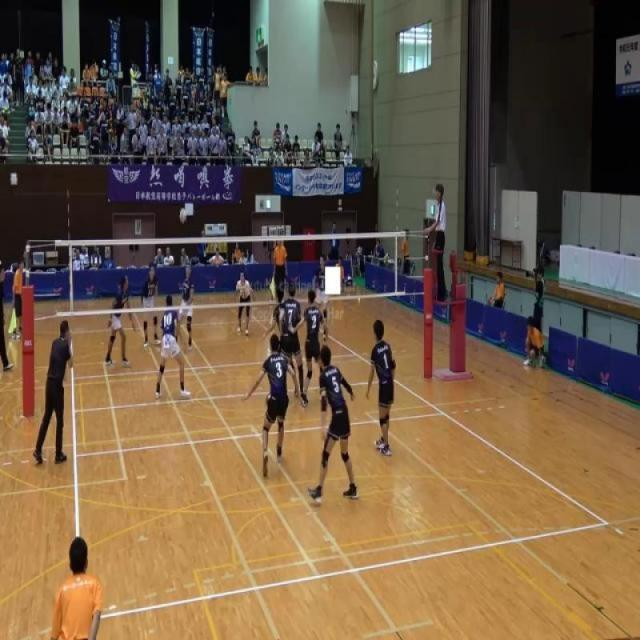volleyball: (178, 207, 188, 224)
